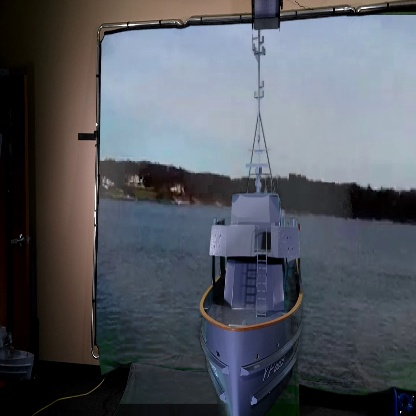YP689: (199, 30, 302, 416)
